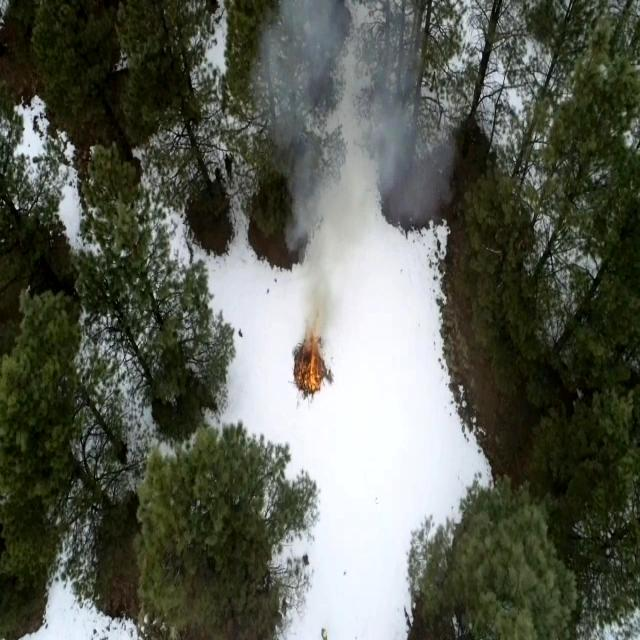Fire: (296, 332, 326, 393)
Smoke: (255, 0, 440, 282)
